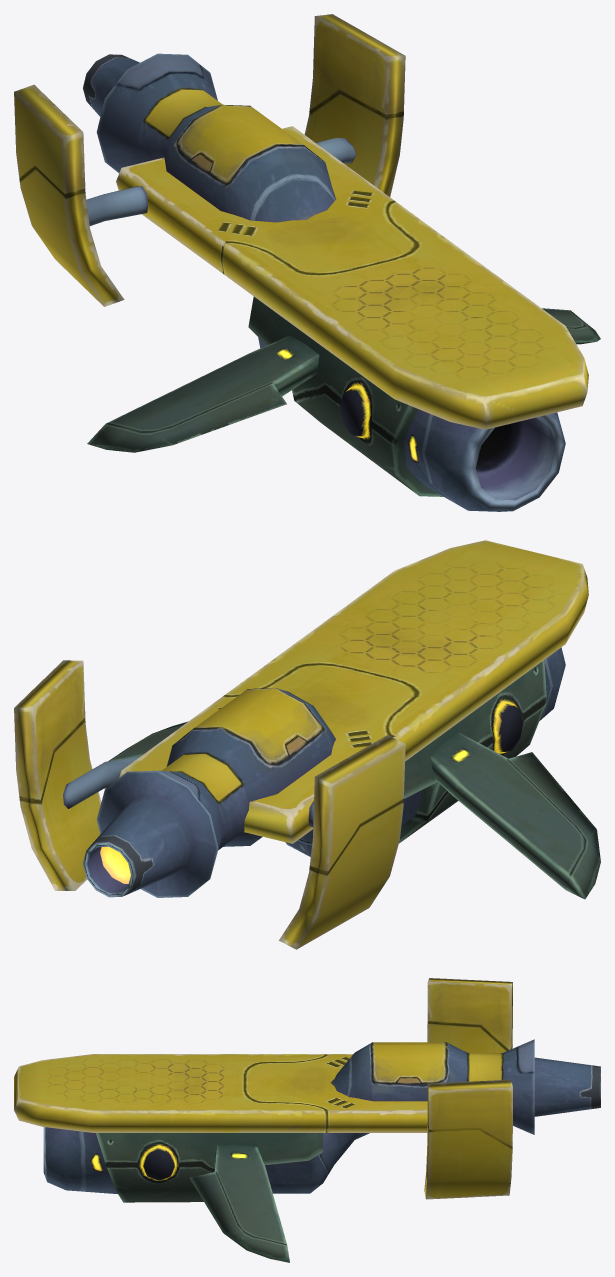
The model's file is hoverboard.glb.
3 renders of one model, top to bottom at view 1: azimuth 30°, elevation 25°; view 2: azimuth 150°, elevation 25°; view 3: azimuth 270°, elevation 25°, orthographic. The views are drawn at different scales.
Visible parts, largest first — view 1: pCube1; view 2: pCube1; view 3: pCube1.
Part boxes in pixels (x1,y1,x2,y2): pCube1: (14, 14, 600, 511); pCube1: (14, 540, 600, 949); pCube1: (14, 978, 600, 1262).
Bounding box in the file's own units: 0.6957 × 0.3217 × 1.04.
Materials: 1 (1 with a texture image).
